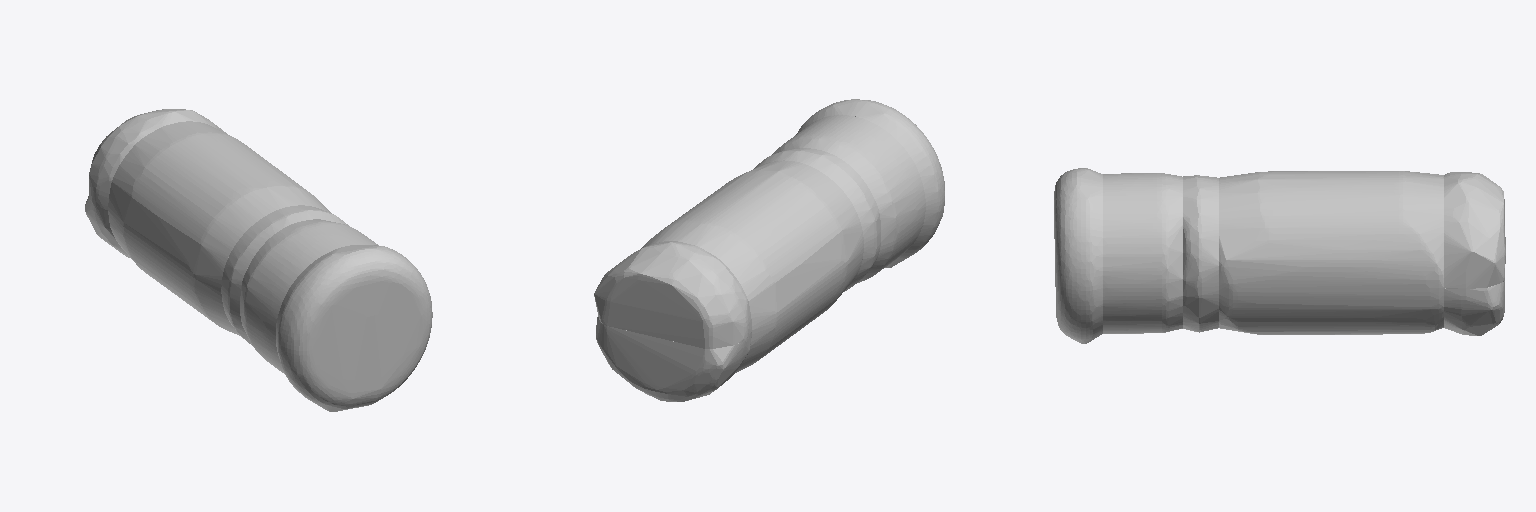
The model's file is coacd_collision.obj.
3 views of the same model, side by side, from view 1: azimuth 30°, elevation 25°; view 2: azimuth 150°, elevation 25°; view 3: azimuth 270°, elevation 25° (orthographic).
Visible parts, largest first — view 1: geometry_1, geometry_0, geometry_5, geometry_2, geometry_4, geometry_3; view 2: geometry_1, geometry_4, geometry_5, geometry_3, geometry_0, geometry_2; view 3: geometry_1, geometry_5, geometry_0, geometry_4, geometry_2, geometry_3.
Boxes of the visible parts, x1=… form: geometry_1: x1=108, y1=121, x2=330, y2=335; geometry_0: x1=276, y1=245, x2=432, y2=411; geometry_5: x1=240, y1=219, x2=378, y2=373; geometry_2: x1=221, y1=205, x2=348, y2=345; geometry_4: x1=89, y1=109, x2=226, y2=210; geometry_3: x1=85, y1=196, x2=129, y2=257; geometry_1: x1=641, y1=160, x2=863, y2=372; geometry_4: x1=594, y1=241, x2=751, y2=348; geometry_5: x1=772, y1=115, x2=925, y2=282; geometry_3: x1=596, y1=317, x2=751, y2=401; geometry_0: x1=796, y1=99, x2=944, y2=267; geometry_2: x1=754, y1=148, x2=880, y2=291; geometry_1: x1=1219, y1=171, x2=1443, y2=334; geometry_5: x1=1103, y1=173, x2=1182, y2=333; geometry_0: x1=1054, y1=168, x2=1102, y2=343; geometry_4: x1=1444, y1=172, x2=1505, y2=288; geometry_2: x1=1183, y1=175, x2=1218, y2=332; geometry_3: x1=1444, y1=281, x2=1504, y2=335.
Bounding box in the file's own units: 42.55 × 43.48 × 112.